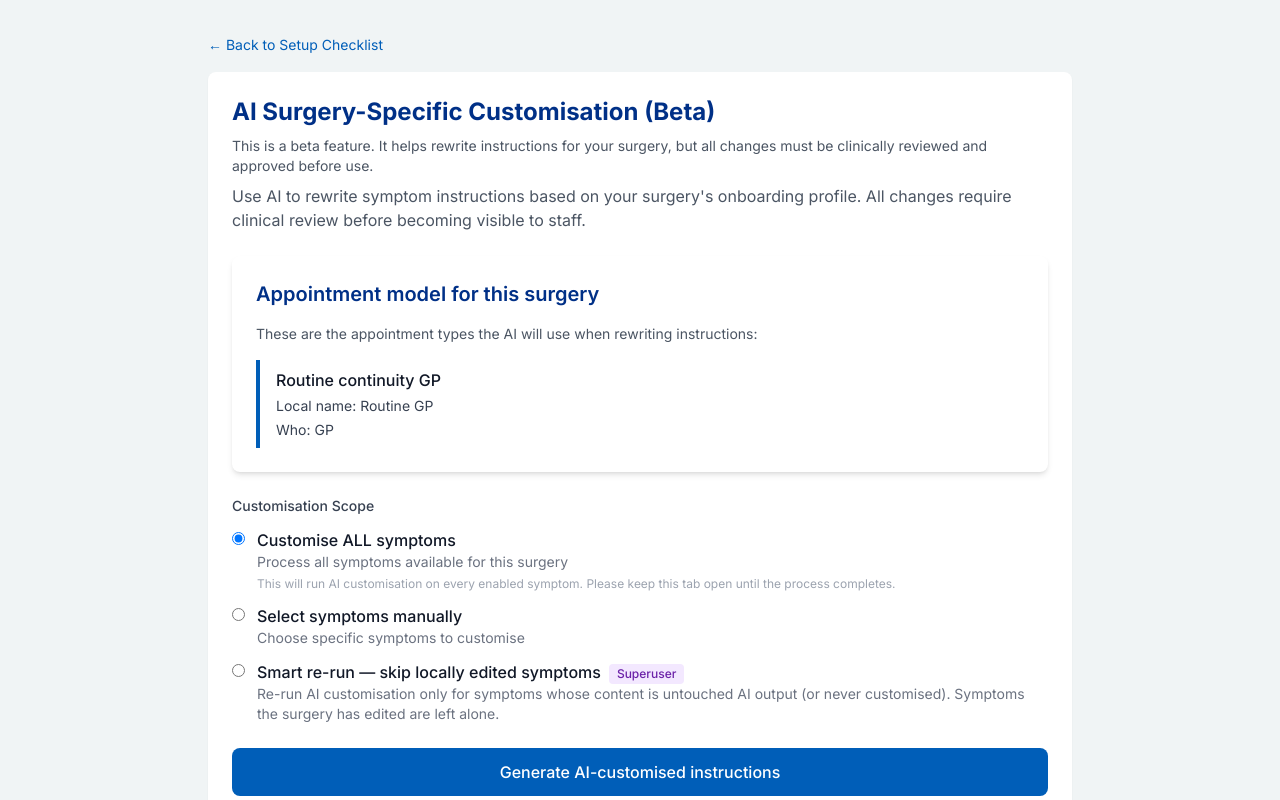
Test: AISetupClient — whole-library customisation › offers a superuser the option that spares hand-edited wording
This screenshot has width=1280, height=800.
Click the button "Generate AI-customised instructions" at (640, 772), box [232,748,1048,796]
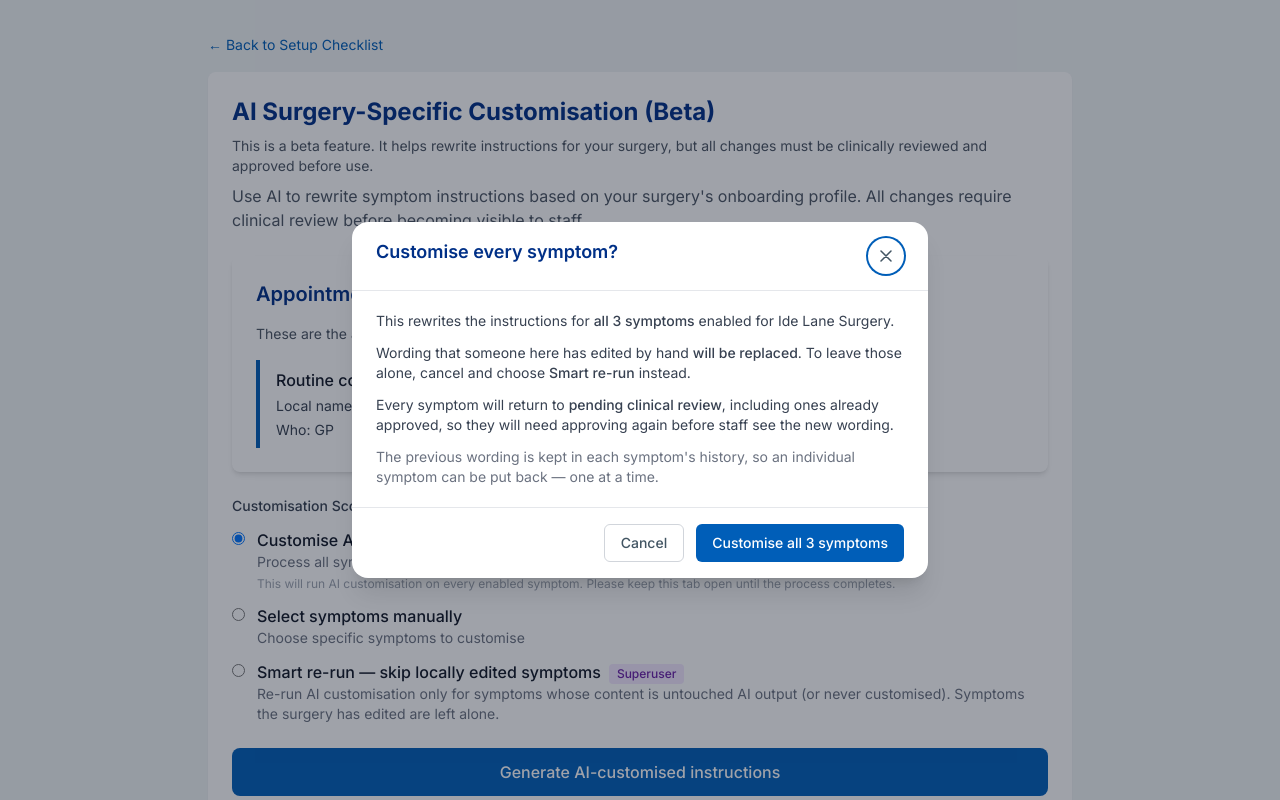
Now the text "Smart re-run" is shown, box [549,364,635,381]
